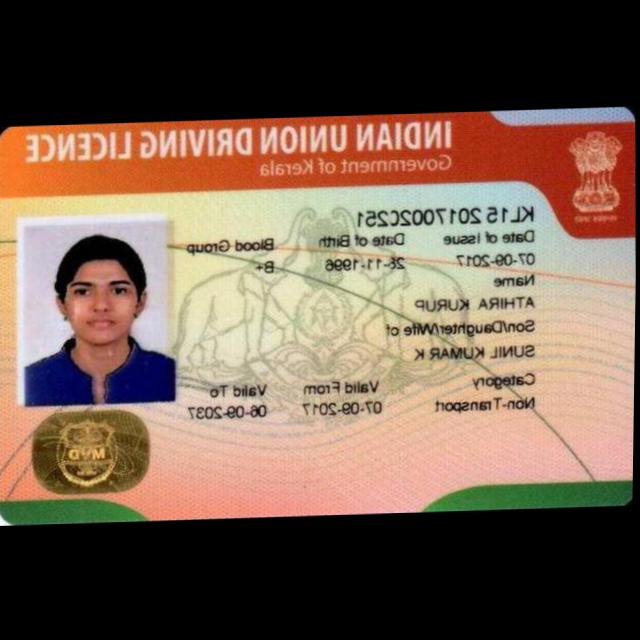driving_licence: (0, 108, 639, 525)
